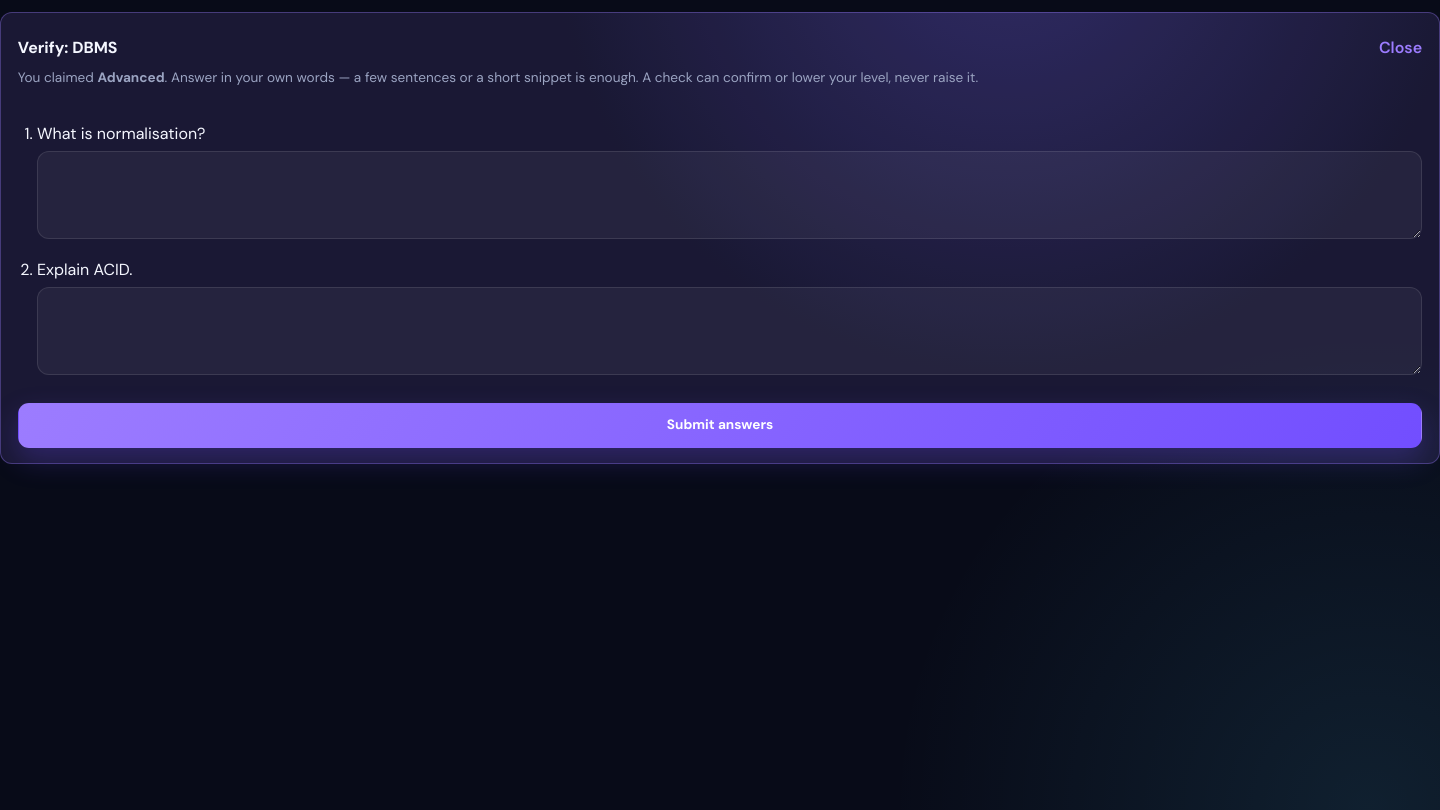
Test case: AssessmentPanel › shows the questions, submits the answers and reports the verified level
This screenshot has width=1440, height=810.
Expected: the text "What is normalisation?" is shown, [37, 123, 1422, 244]
Step 1. Type "Removing redundancy" into the text box named "Answer 1" → point(730, 195), box [37, 151, 1422, 239]
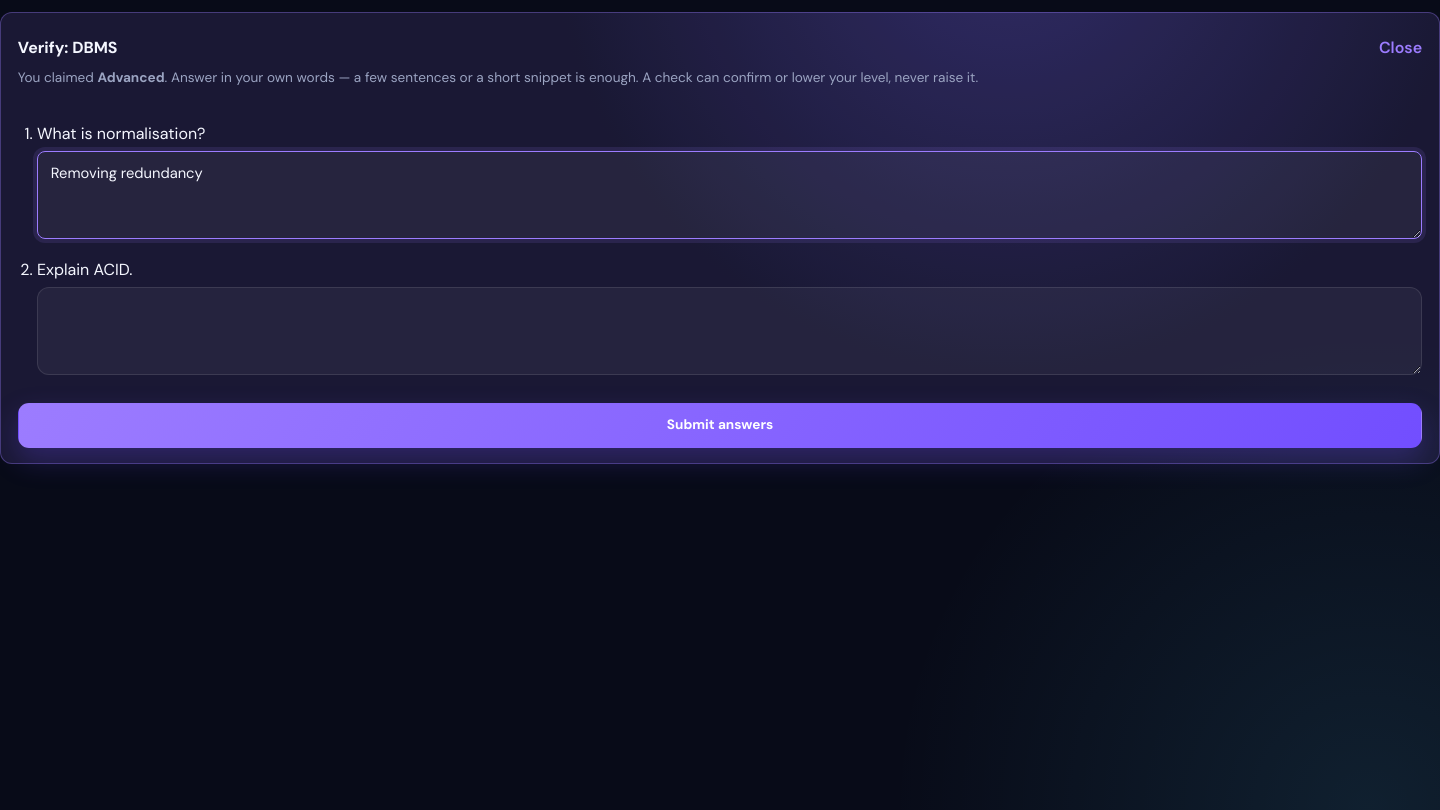
Step 2. Type "Atomicity, consistency, isolation, durability" into the text box named "Answer 2" → point(730, 331), box [37, 287, 1422, 375]
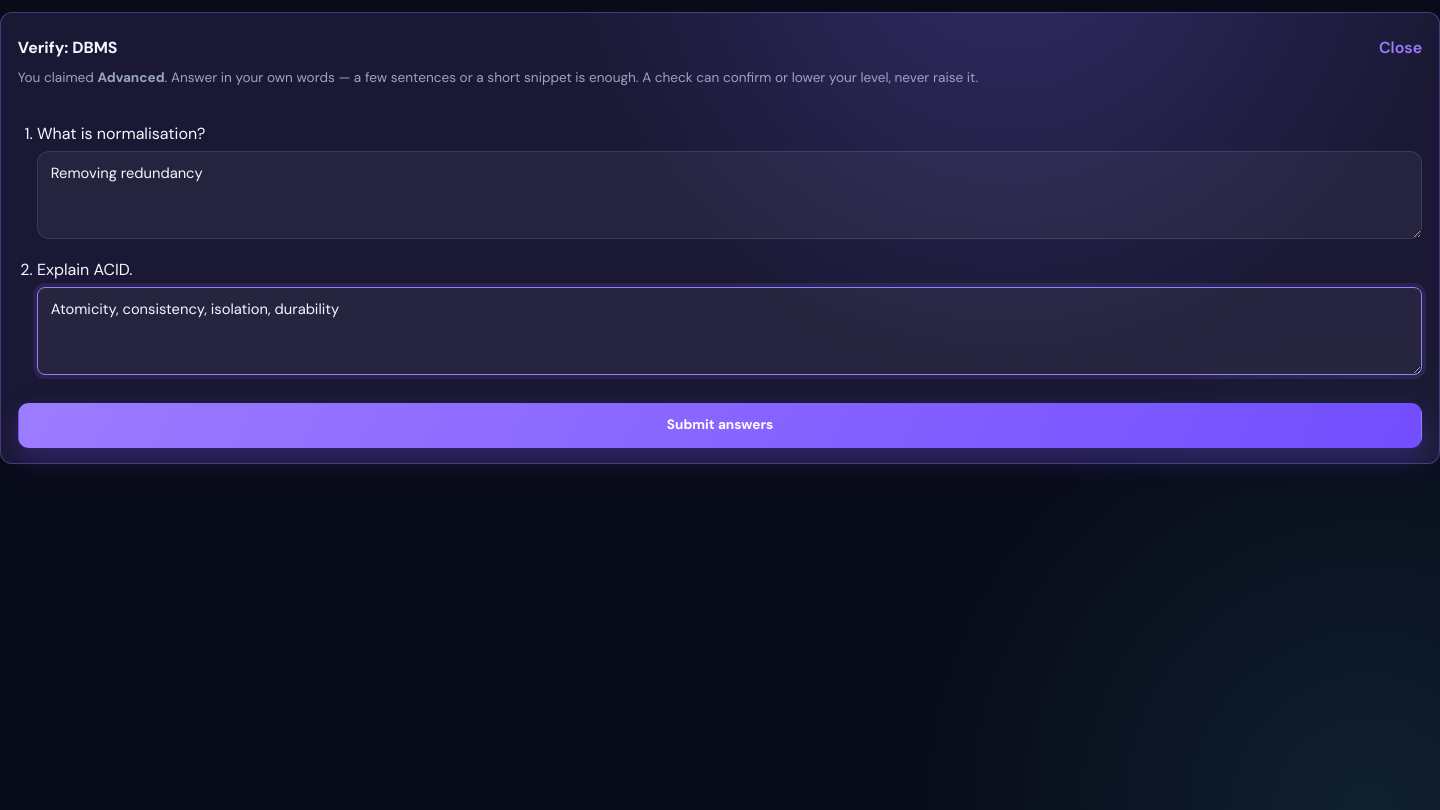
Step 3. Click the button "Submit answers" → point(720, 426), box [18, 404, 1422, 448]
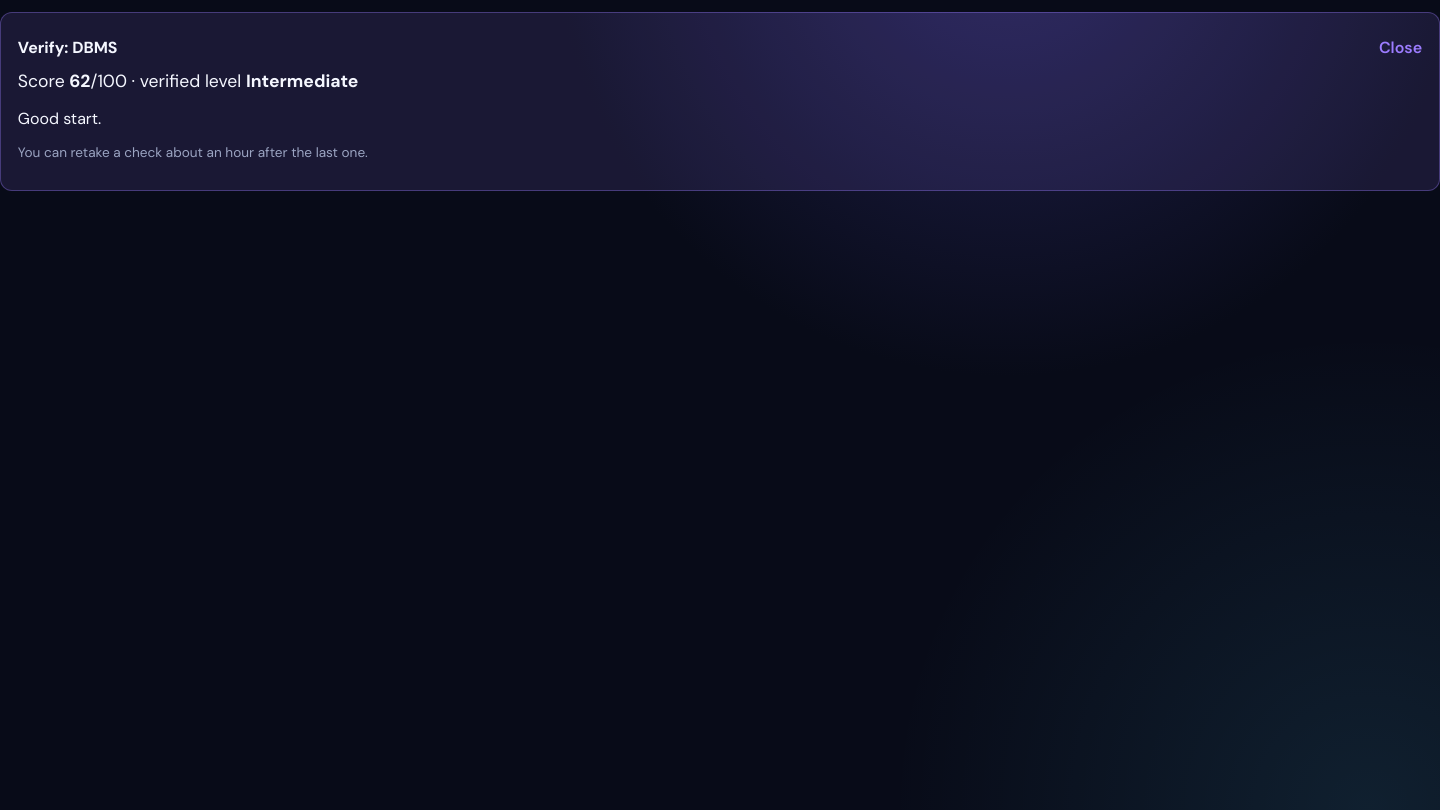
Expected: the text "Score 62/100 · verified level Intermediate" is shown, [18, 70, 358, 92]
Expected: the text "Good start." is shown, [18, 108, 101, 129]
